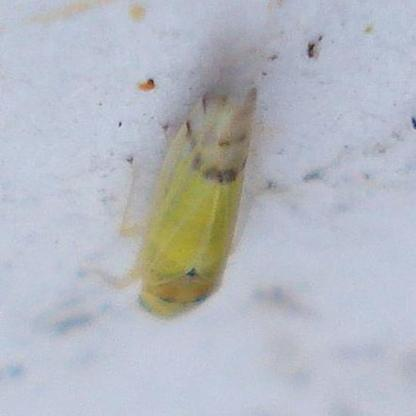green-leafhopper: (110, 84, 252, 320)
